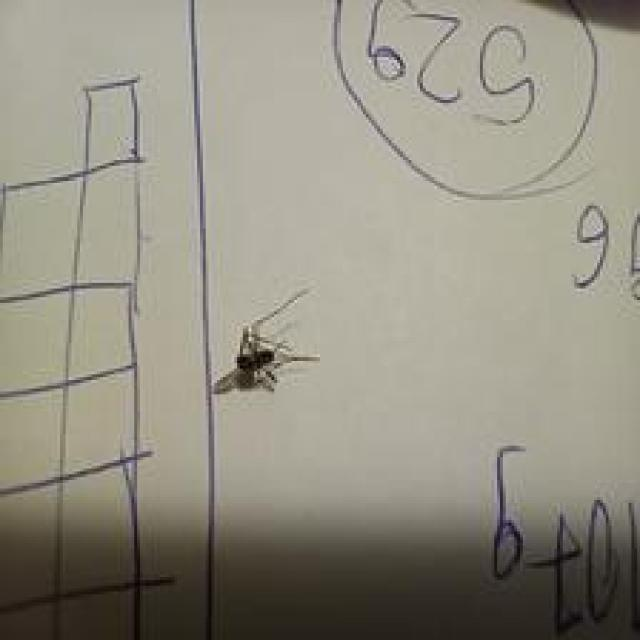Aedes albopictus: (211, 286, 320, 397)
